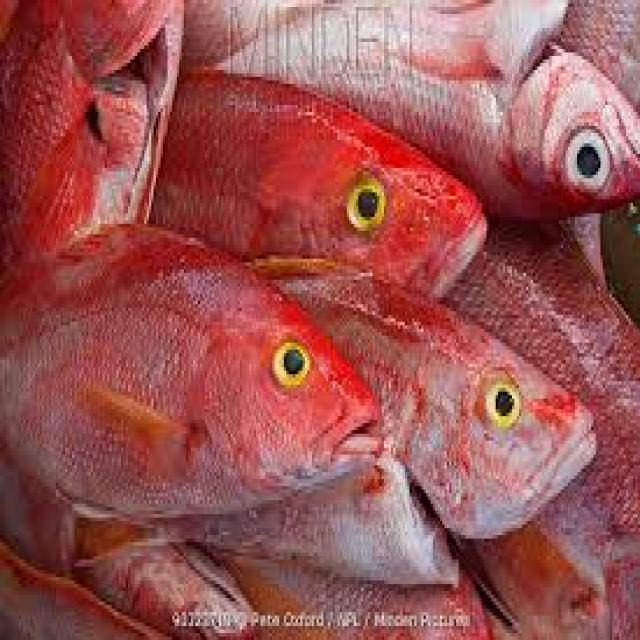northern-red-snapper: (0, 196, 378, 544), (228, 239, 607, 555), (230, 0, 640, 245), (161, 28, 493, 327), (0, 0, 182, 254), (4, 472, 260, 640)
